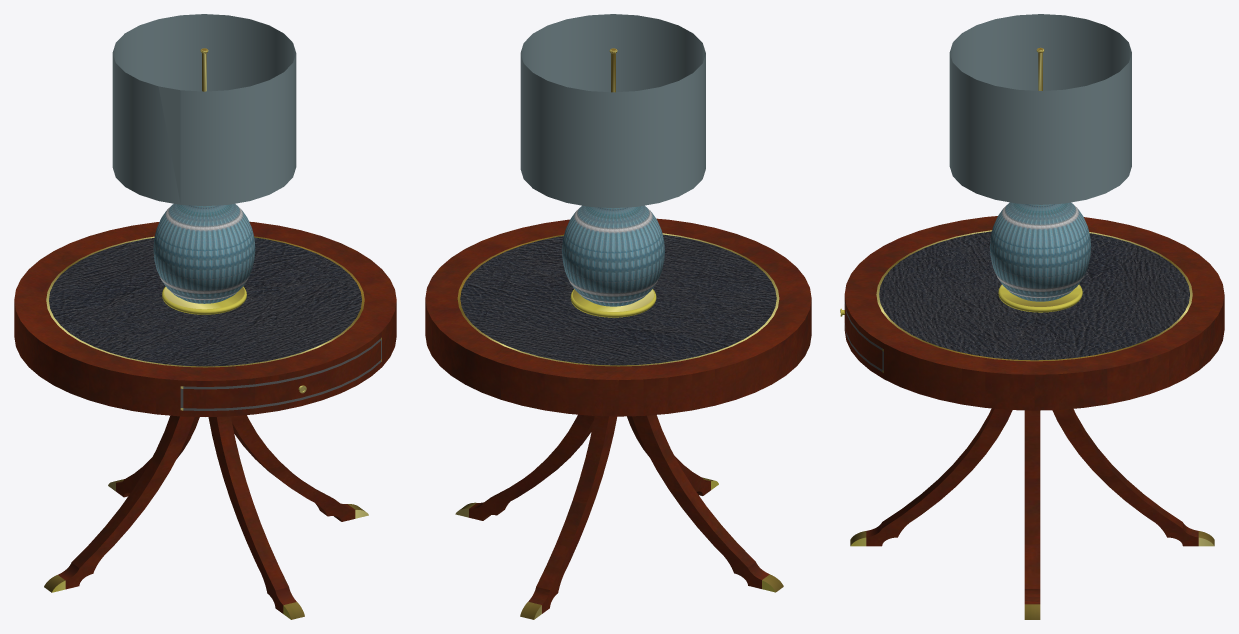
File: oldBlueLampAndTable.fbx
The picture shows the model from 3 angles, left to right: view 1: azimuth 30°, elevation 25°; view 2: azimuth 150°, elevation 25°; view 3: azimuth 270°, elevation 25°; orthographic projection.
Visible parts, largest first — view 1: Proj_ChairRoundedBack_Arms_COM_Interior_Furn_TableDrum0203_4 (×4), Proj_ChairRoundedBack_Arms_COM_LampShade_38021_SW_6223_Still, Proj_ChairRoundedBack_Arms_GRP_41369_Wood_Cherry, Proj_ChairRoundedBack_Arms_COM_LampBase_38022_Material10, Proj_ChairRoundedBack_Arms_COM_LampBase_38022_GOLD, Proj_ChairRoundedBack_Arms_GRP_41369_GOLD; view 2: Proj_ChairRoundedBack_Arms_COM_Interior_Furn_TableDrum0203_4 (×3), Proj_ChairRoundedBack_Arms_COM_LampShade_38021_SW_6223_Still, Proj_ChairRoundedBack_Arms_GRP_41369_Wood_Cherry, Proj_ChairRoundedBack_Arms_COM_LampBase_38022_Material10, Proj_ChairRoundedBack_Arms_COM_LampBase_38022_GOLD, Proj_ChairRoundedBack_Arms_GRP_41369_GOLD; view 3: Proj_ChairRoundedBack_Arms_COM_Interior_Furn_TableDrum0203_4 (×3), Proj_ChairRoundedBack_Arms_COM_LampShade_38021_SW_6223_Still, Proj_ChairRoundedBack_Arms_GRP_41369_Wood_Cherry, Proj_ChairRoundedBack_Arms_COM_LampBase_38022_Material10, Proj_ChairRoundedBack_Arms_COM_LampBase_38022_GOLD, Proj_ChairRoundedBack_Arms_GRP_41369_GOLD.
Boxes of the visible parts, <box> form: Proj_ChairRoundedBack_Arms_COM_Interior_Furn_TableDrum0203_4 (×4): <box>14,221,396,416</box>; Proj_ChairRoundedBack_Arms_COM_LampShade_38021_SW_6223_Still: <box>112,14,296,206</box>; Proj_ChairRoundedBack_Arms_GRP_41369_Wood_Cherry: <box>58,415,355,613</box>; Proj_ChairRoundedBack_Arms_COM_LampBase_38022_Material10: <box>153,203,255,303</box>; Proj_ChairRoundedBack_Arms_COM_LampBase_38022_GOLD: <box>162,48,246,314</box>; Proj_ChairRoundedBack_Arms_GRP_41369_GOLD: <box>44,479,368,619</box>; Proj_ChairRoundedBack_Arms_COM_Interior_Furn_TableDrum0203_4 (×3): <box>425,218,811,416</box>; Proj_ChairRoundedBack_Arms_COM_LampShade_38021_SW_6223_Still: <box>520,14,705,208</box>; Proj_ChairRoundedBack_Arms_GRP_41369_Wood_Cherry: <box>469,414,769,613</box>; Proj_ChairRoundedBack_Arms_COM_LampBase_38022_Material10: <box>562,205,664,306</box>; Proj_ChairRoundedBack_Arms_COM_LampBase_38022_GOLD: <box>570,48,656,317</box>; Proj_ChairRoundedBack_Arms_GRP_41369_GOLD: <box>455,477,783,619</box>; Proj_ChairRoundedBack_Arms_COM_Interior_Furn_TableDrum0203_4 (×3): <box>840,216,1224,410</box>; Proj_ChairRoundedBack_Arms_COM_LampShade_38021_SW_6223_Still: <box>949,14,1131,204</box>; Proj_ChairRoundedBack_Arms_GRP_41369_Wood_Cherry: <box>866,408,1198,604</box>; Proj_ChairRoundedBack_Arms_COM_LampBase_38022_Material10: <box>990,202,1091,301</box>; Proj_ChairRoundedBack_Arms_COM_LampBase_38022_GOLD: <box>998,47,1082,312</box>; Proj_ChairRoundedBack_Arms_GRP_41369_GOLD: <box>850,531,1214,619</box>.
Bounding box in the file's own units: 0.9144 × 1.31 × 0.9245.
9 materials, 5 textured.
